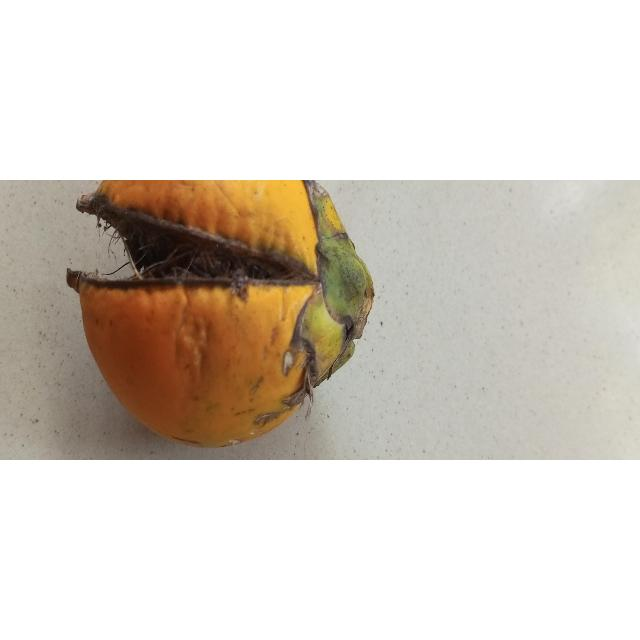damaged: (66, 180, 375, 450)
